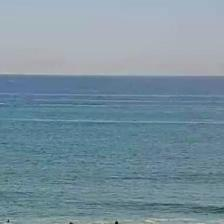surfer: (5, 219, 10, 223), (114, 220, 119, 224), (68, 222, 74, 223)
